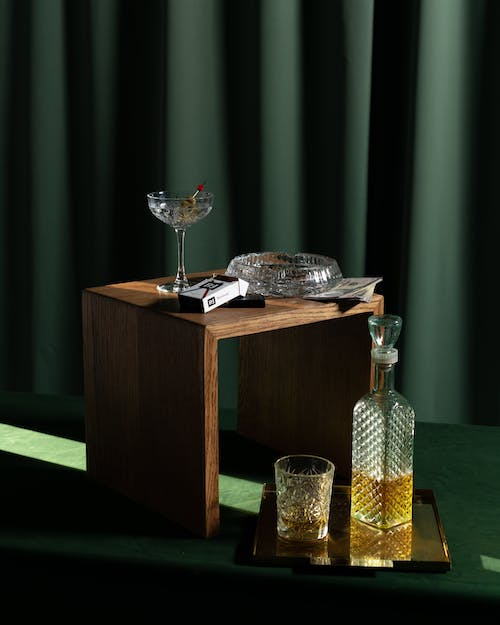alcohol: (346, 344, 417, 533), (144, 187, 215, 297), (271, 451, 337, 546)
cigarette: (174, 270, 251, 316)
